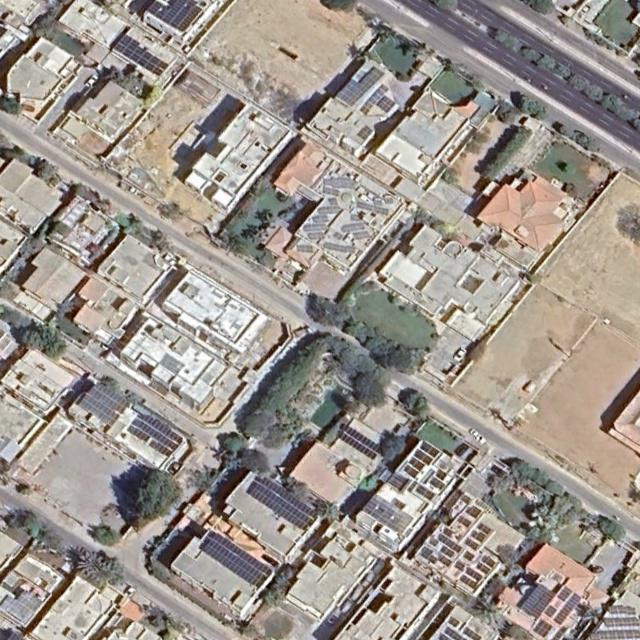solar panel: (245, 474, 319, 533), (200, 531, 271, 587), (128, 414, 186, 459), (76, 382, 134, 427), (112, 36, 168, 76), (363, 494, 415, 533), (145, 0, 203, 34), (337, 67, 386, 107), (519, 584, 557, 620), (360, 83, 396, 115), (346, 425, 384, 454), (340, 434, 379, 460), (554, 592, 581, 626), (355, 201, 389, 215), (387, 473, 412, 491), (532, 618, 554, 638), (439, 535, 463, 552), (592, 631, 639, 639), (324, 243, 357, 254), (420, 546, 439, 564), (414, 449, 434, 466), (416, 485, 435, 502), (420, 441, 440, 457), (607, 618, 639, 627), (459, 575, 478, 589), (357, 124, 373, 140), (409, 456, 426, 471), (445, 627, 466, 639), (464, 567, 482, 581), (324, 178, 352, 187), (403, 463, 419, 478), (465, 627, 484, 639), (558, 586, 572, 602), (465, 504, 481, 518), (344, 222, 365, 232), (471, 531, 488, 543), (322, 186, 340, 197), (608, 607, 636, 614), (430, 476, 444, 490), (438, 554, 453, 567), (457, 515, 472, 528), (304, 224, 327, 232), (317, 206, 340, 214), (440, 545, 455, 557), (465, 538, 479, 550), (476, 563, 491, 574), (312, 214, 330, 223), (447, 616, 460, 628), (482, 555, 495, 567), (478, 523, 491, 535), (353, 231, 368, 241), (464, 551, 477, 561), (297, 245, 313, 253), (308, 233, 326, 240), (546, 606, 558, 616), (438, 469, 447, 481), (455, 562, 465, 572)
